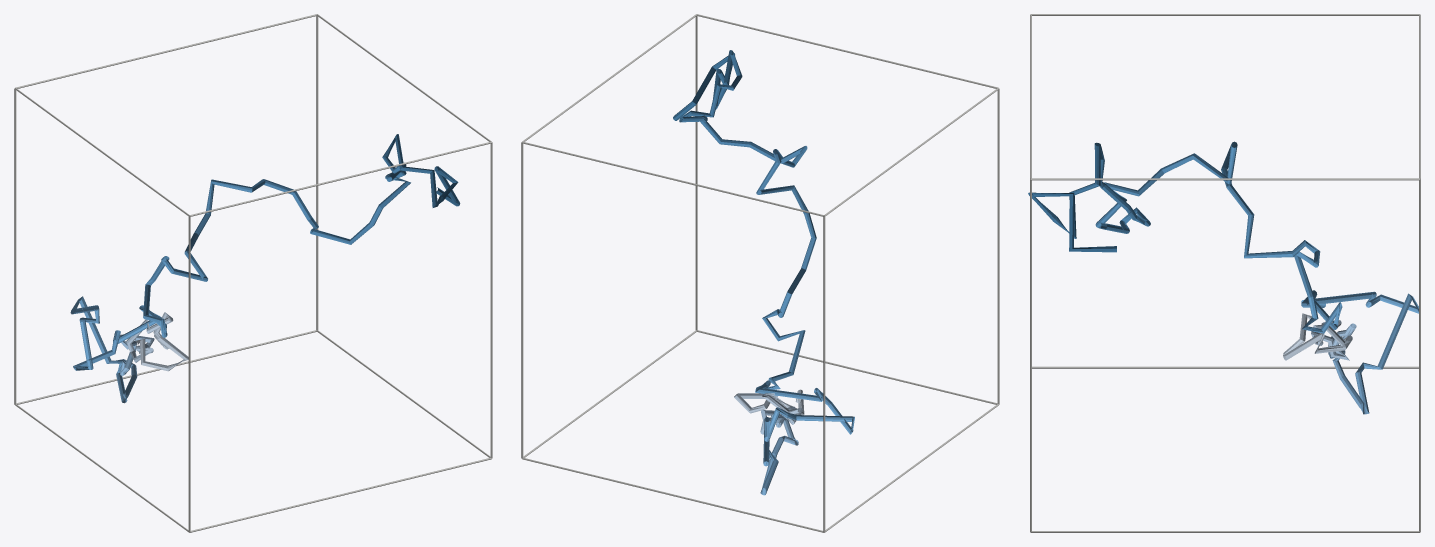
3 views of the same model, side by side, from view 1: azimuth 30°, elevation 25°; view 2: azimuth 150°, elevation 25°; view 3: azimuth 270°, elevation 25° (orthographic). The views are drawn at different scales.
Parts seen in each view (by area): view 1: geometry_1, geometry_0; view 2: geometry_1, geometry_0; view 3: geometry_0, geometry_1.
Part boxes in pixels (<box>): geometry_1: <box>14,14,492,532</box>; geometry_0: <box>70,134,460,403</box>; geometry_1: <box>521,14,999,532</box>; geometry_0: <box>673,50,854,495</box>; geometry_0: <box>1028,141,1418,414</box>; geometry_1: <box>1030,14,1420,532</box>.
Size of the model in its own units: 0.3016 by 0.3028 by 0.303.
